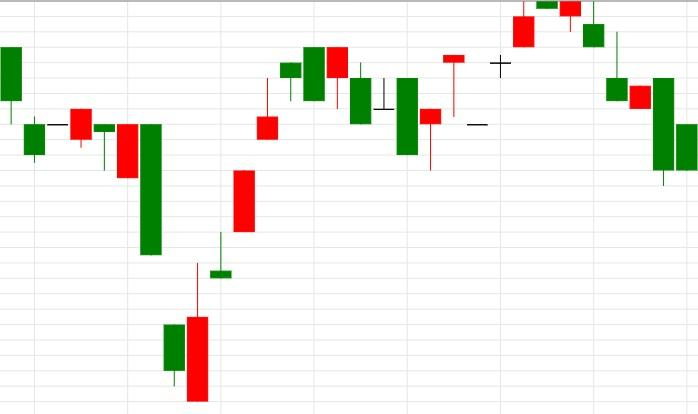bullish_engulfing_rise: (69, 108, 209, 403)
hammer_rise: (303, 47, 442, 171)
inverse_hammer_rise: (535, 0, 628, 102)
